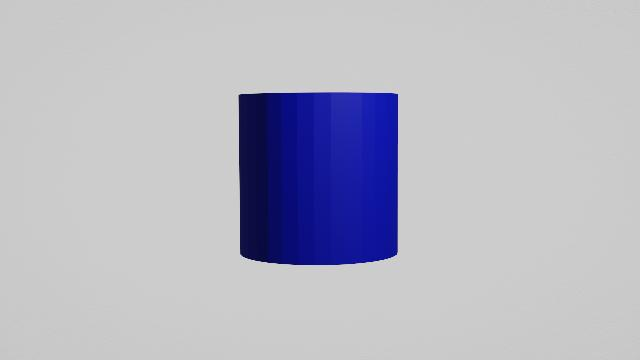Cylinder: (228, 84, 406, 272)
